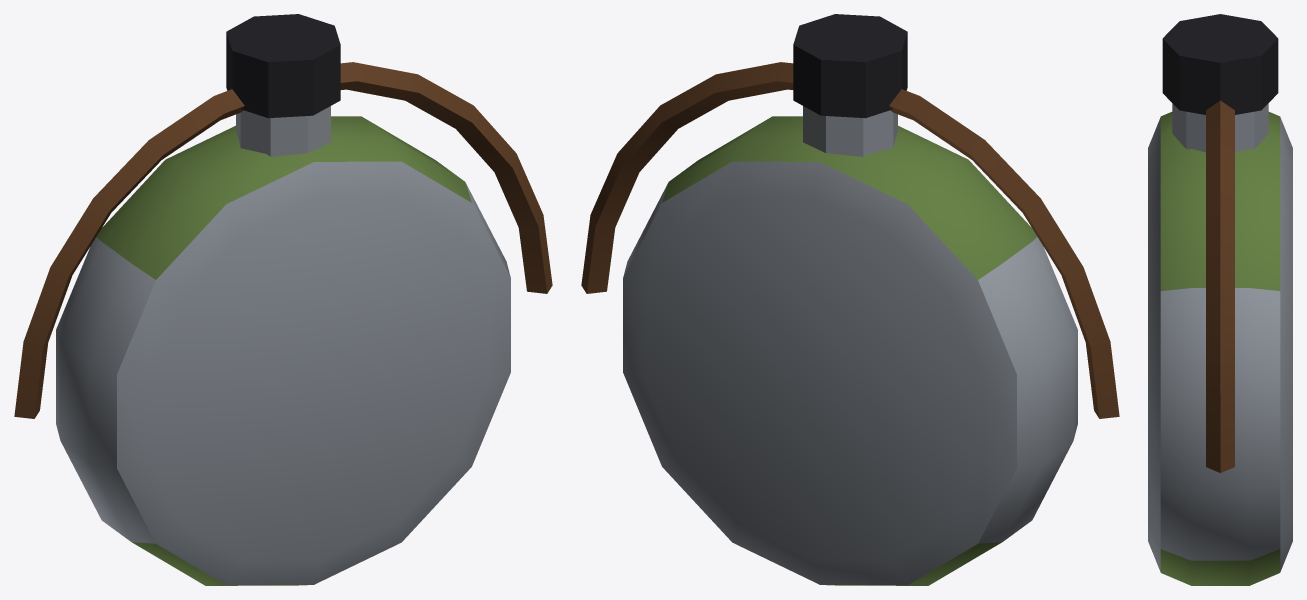
The model's file is SM_Canteen.glb.
3 views of the same model, side by side, from view 1: azimuth 30°, elevation 25°; view 2: azimuth 150°, elevation 25°; view 3: azimuth 270°, elevation 25° (orthographic). The views are drawn at different scales.
Parts seen in each view (by area): view 1: SM_Canteen; view 2: SM_Canteen; view 3: SM_Canteen.
Boxes of the visible parts, <box> form: SM_Canteen: <box>14,14,552,585</box>; SM_Canteen: <box>581,14,1119,585</box>; SM_Canteen: <box>1148,14,1292,585</box>.
Size of the model in its own units: 0.252 by 0.24 by 0.06.
Materials: 1 (1 with a texture image).
